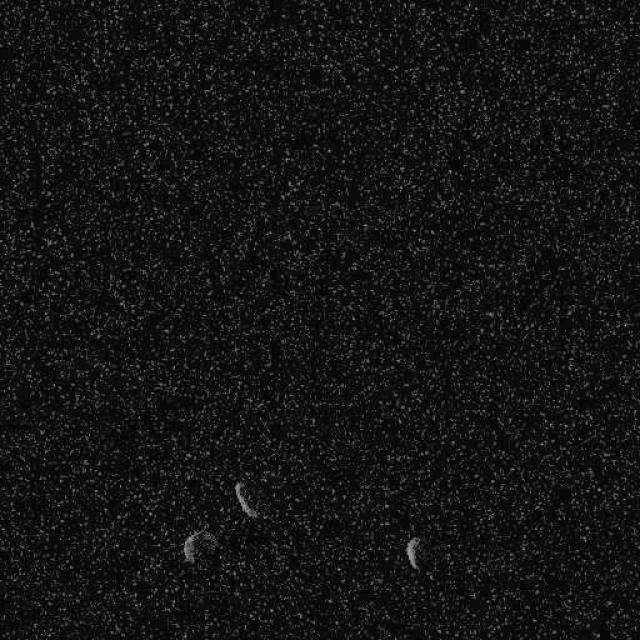D2: (181, 528, 219, 566), (232, 479, 260, 519), (404, 535, 421, 571)
